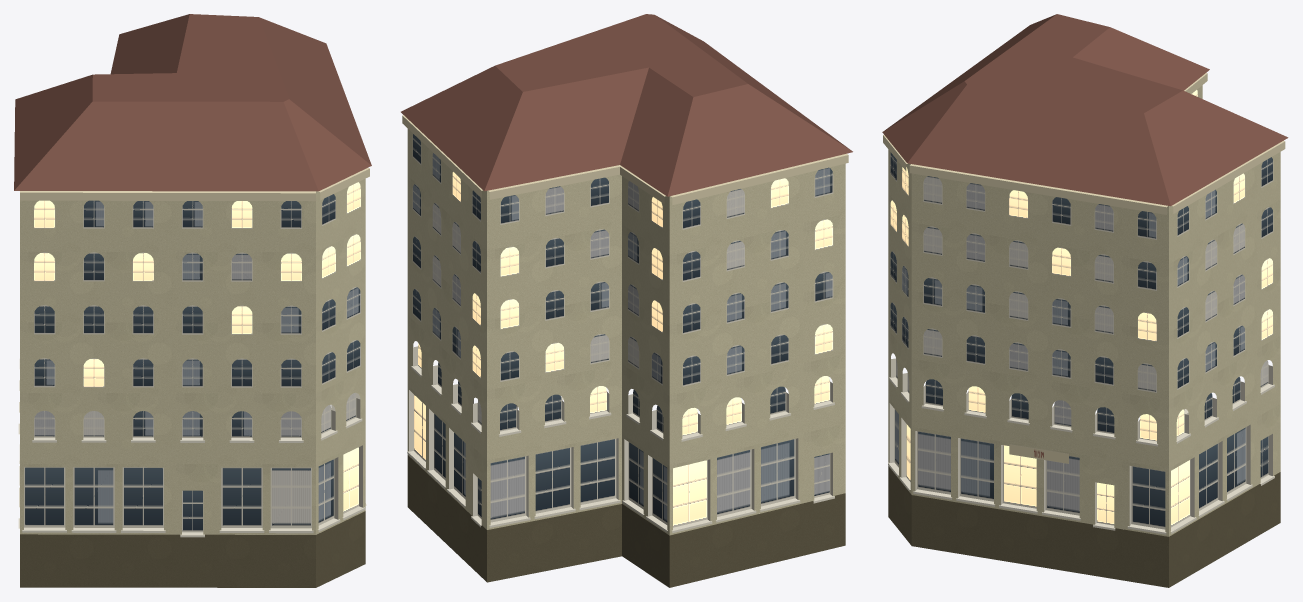
The model's file is langC_tenzmomo.glb.
3 views of the same model, side by side, from view 1: azimuth 30°, elevation 25°; view 2: azimuth 150°, elevation 25°; view 3: azimuth 270°, elevation 25° (orthographic). The views are drawn at different scales.
Visible parts, largest first — view 1: langC_tenzmomo; view 2: langC_tenzmomo; view 3: langC_tenzmomo.
Boxes of the visible parts, x1,y1,x2,y2 form: langC_tenzmomo: (14, 14, 371, 587); langC_tenzmomo: (401, 14, 852, 587); langC_tenzmomo: (882, 14, 1288, 587).
Bounding box in the file's own units: 22.81 × 25.77 × 21.62.
Materials: 3 (3 with a texture image).
